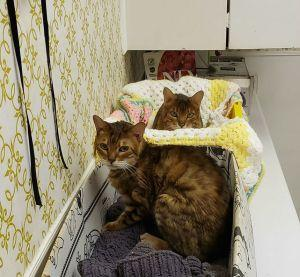bengal: (87, 109, 150, 175)
